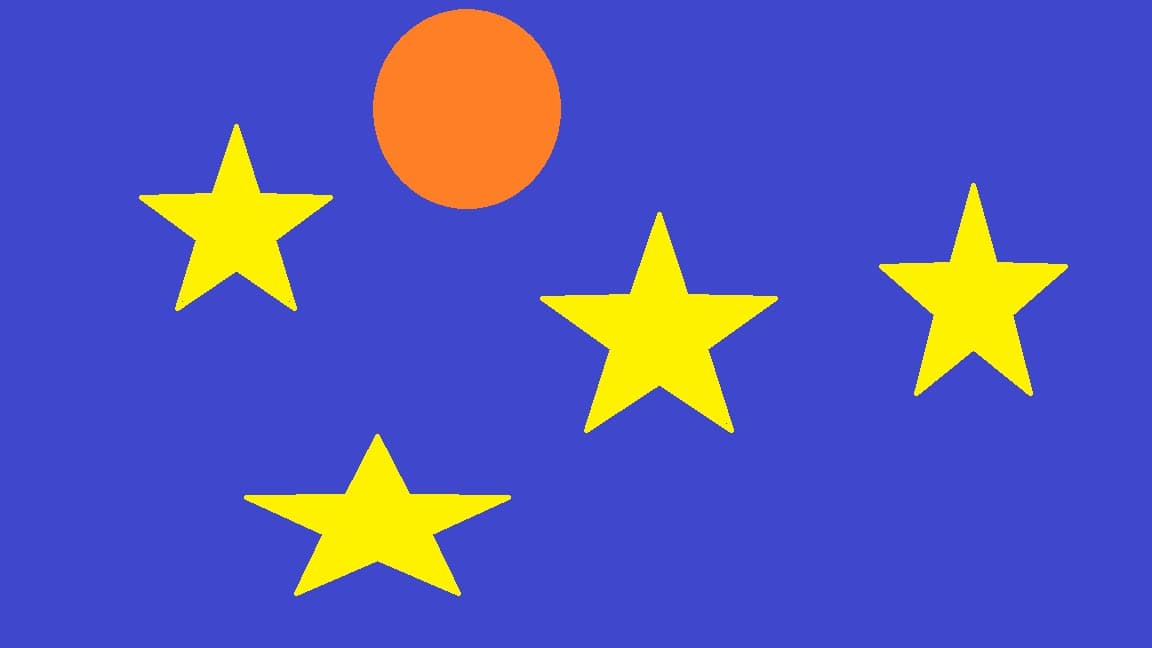Oval: (367, 3, 565, 214)
Star: (535, 210, 781, 437), (243, 431, 511, 597), (876, 183, 1068, 393), (140, 118, 336, 309)
